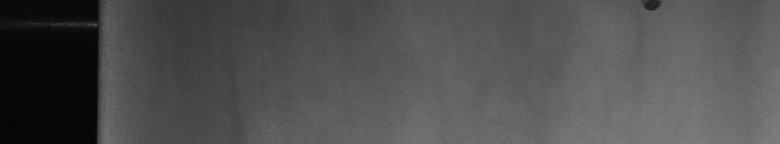fi: (640, 4, 664, 19)
